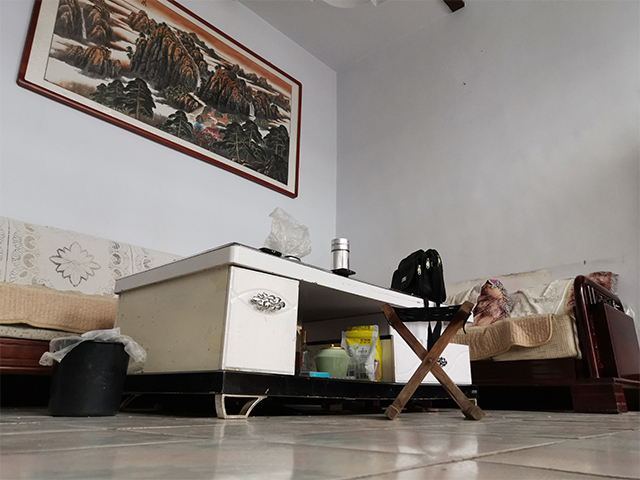sofa: (1, 179, 192, 398), (440, 269, 640, 416)
stool: (377, 300, 488, 424)
table: (111, 241, 477, 420)
trashcan: (46, 337, 127, 417)
